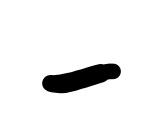minus: (42, 65, 121, 91)
